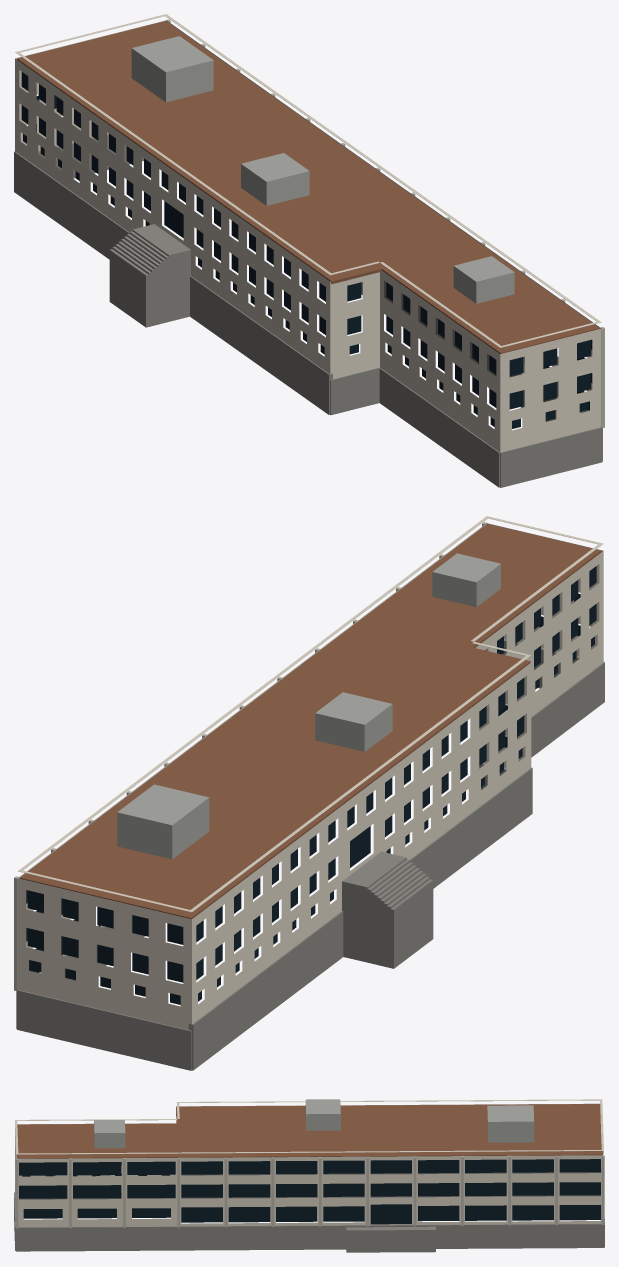
The model's file is morvokzal.lod.glb.
The picture shows the model from 3 angles, top to bottom: view 1: azimuth 30°, elevation 25°; view 2: azimuth 150°, elevation 25°; view 3: azimuth 270°, elevation 25°; orthographic projection. The views are drawn at different scales.
Parts seen in each view (by area): view 1: morvokzal_wall, morvokzal_roof, morvokzal_stone, morvokzal_glass, morvokzal_wall3; view 2: morvokzal_roof, morvokzal_wall, morvokzal_stone, morvokzal_wall3, morvokzal_glass; view 3: morvokzal_roof, morvokzal_glass, morvokzal_wall, morvokzal_stone, morvokzal_wall3, morvokzal_wall2.
Boxes of the visible parts, left/top/right/bottom form: morvokzal_wall: left=15, top=14, right=601, bottom=452; morvokzal_roof: left=17, top=21, right=599, bottom=353; morvokzal_stone: left=14, top=133, right=602, bottom=487; morvokzal_glass: left=21, top=72, right=592, bottom=428; morvokzal_wall3: left=131, top=36, right=514, bottom=303; morvokzal_roof: left=19, top=524, right=601, bottom=919; morvokzal_wall: left=17, top=516, right=603, bottom=1029; morvokzal_stone: left=16, top=639, right=604, bottom=1070; morvokzal_wall3: left=117, top=553, right=500, bottom=859; morvokzal_glass: left=26, top=566, right=596, bottom=1004; morvokzal_roof: left=17, top=1104, right=602, bottom=1158; morvokzal_glass: left=19, top=1159, right=600, bottom=1224; morvokzal_wall: left=15, top=1099, right=603, bottom=1227; morvokzal_stone: left=14, top=1168, right=604, bottom=1252; morvokzal_wall3: left=94, top=1099, right=534, bottom=1148; morvokzal_wall2: left=15, top=1155, right=604, bottom=1228.
Size of the model in its own units: 21.73 by 16.2 by 76.59.
